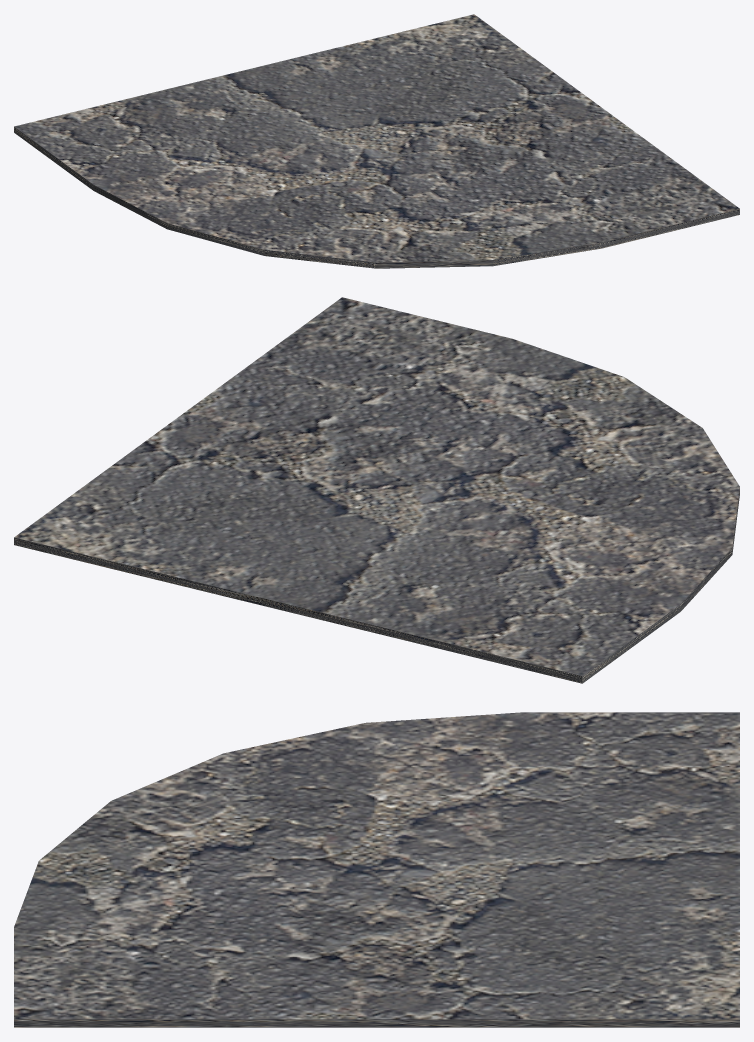
Rendered from RoadPiece01.fbx.
3 renders of one model, top to bottom at view 1: azimuth 30°, elevation 25°; view 2: azimuth 150°, elevation 25°; view 3: azimuth 270°, elevation 25°, orthographic. The views are drawn at different scales.
Parts seen in each view (by area): view 1: RoadPieces01; view 2: RoadPieces01; view 3: RoadPieces01.
Boxes of the visible parts, box(x1,y1,x2,y2) form: RoadPieces01: box(14, 14, 739, 268); RoadPieces01: box(14, 297, 739, 683); RoadPieces01: box(14, 712, 739, 1027).
Bounding box in the file's own units: 270 × 3.45 × 270.
